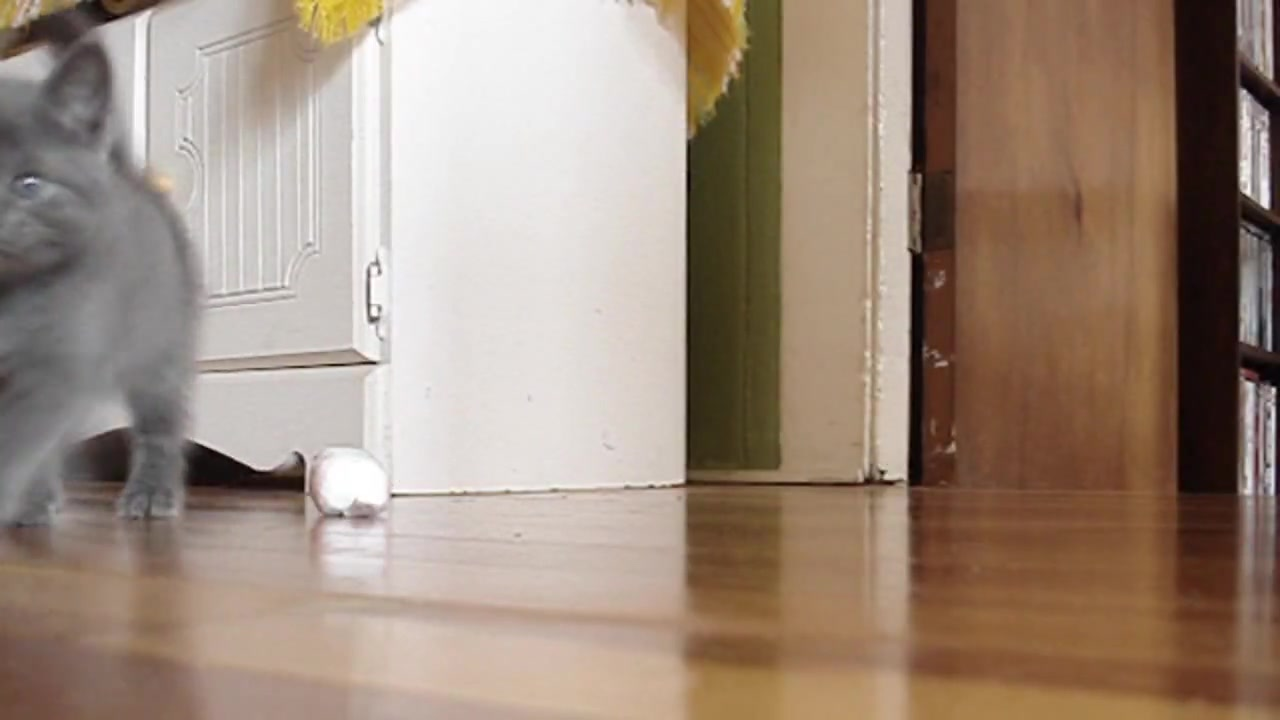cat: (1, 6, 200, 526)
